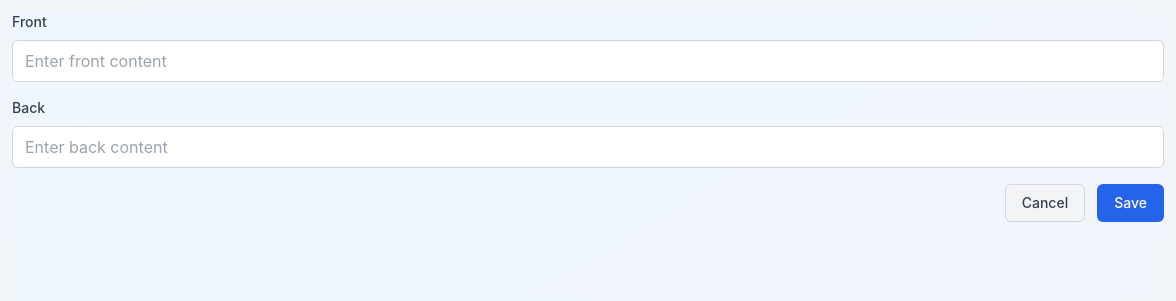
Scenario: CardForm - Save Functionality › should handle save errors gracefully
Type "Test front" into the field labelled "Front" at (588, 61), box x1=12 y1=40 x2=1164 y2=82
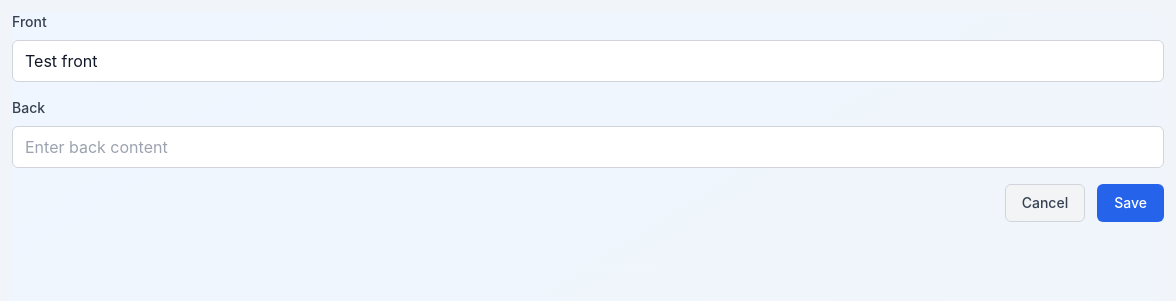
Type "Test back" into the field labelled "Back" at (588, 147), box x1=12 y1=126 x2=1164 y2=168
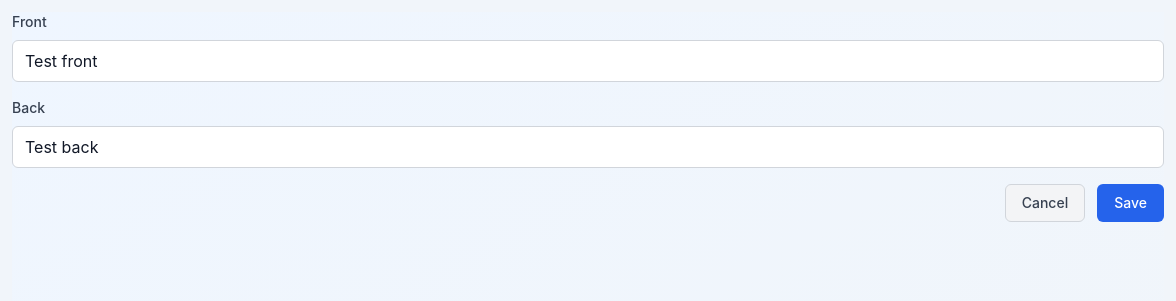
Click the button "Save" at (1131, 203), box x1=1097 y1=184 x2=1164 y2=222
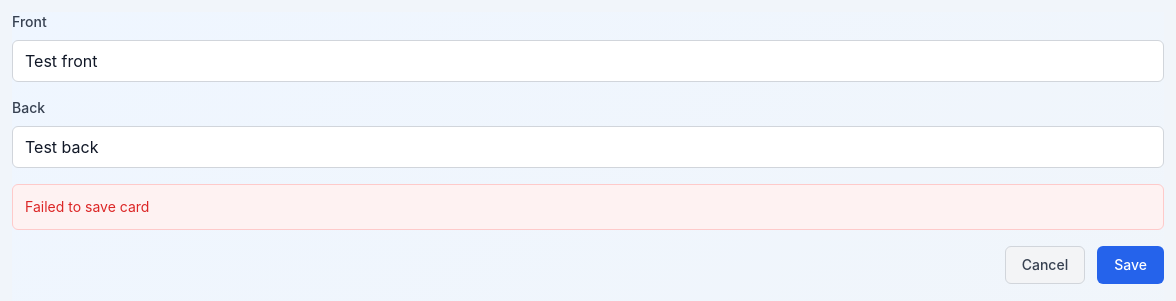
Expected: the button "Save" is enabled, x1=1097 y1=246 x2=1164 y2=284
Expected: the text "Failed to save card" is shown, x1=25 y1=198 x2=149 y2=215
